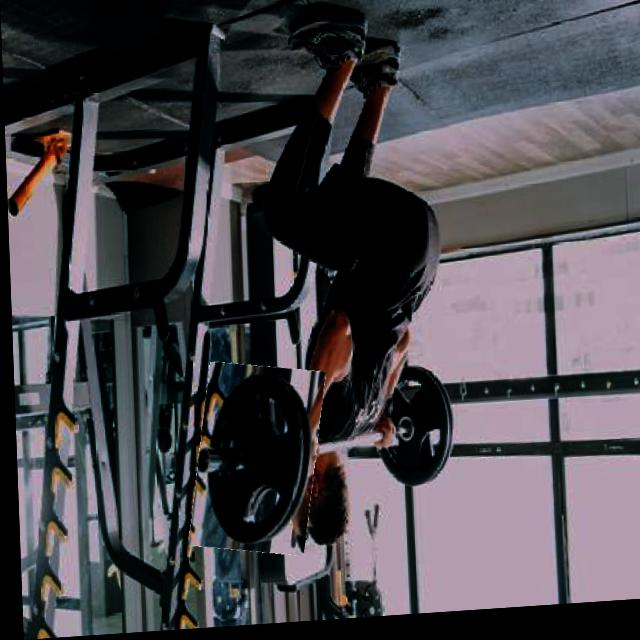barbell: (186, 363, 321, 562)
